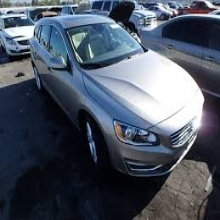no damage: (29, 14, 204, 181), (139, 12, 220, 98), (1, 13, 38, 59)
